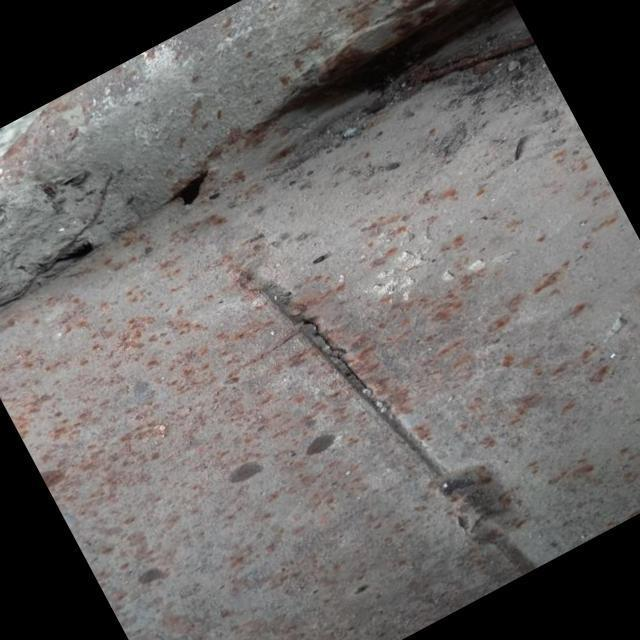defect: (289, 315, 378, 400)
